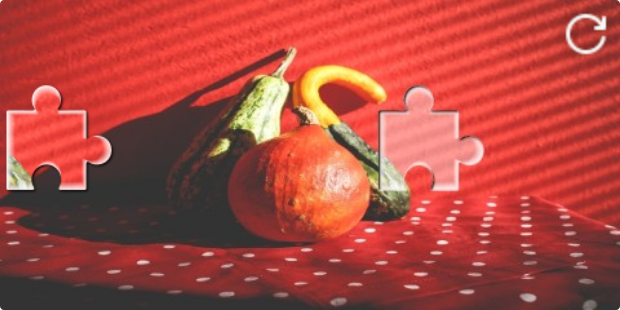target: (379, 86, 483, 190)
